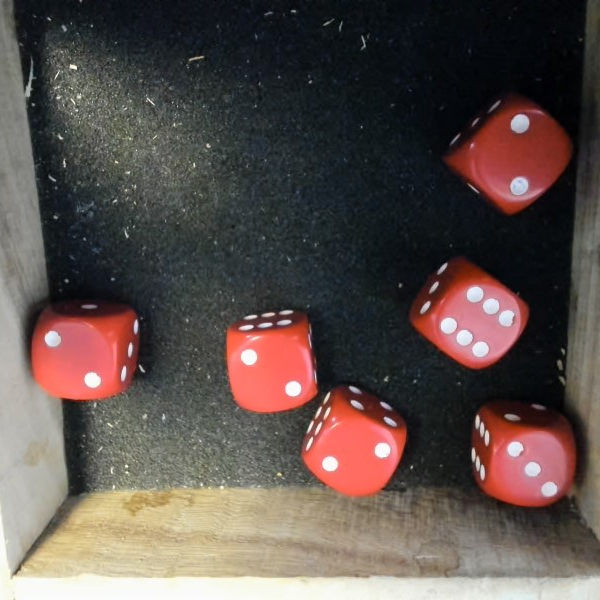red_die_pip2: (444, 89, 576, 221), (290, 375, 419, 504), (220, 298, 331, 417), (35, 305, 139, 401)
red_die_pip3: (472, 400, 572, 503)
red_die_pip6: (406, 249, 533, 373)
